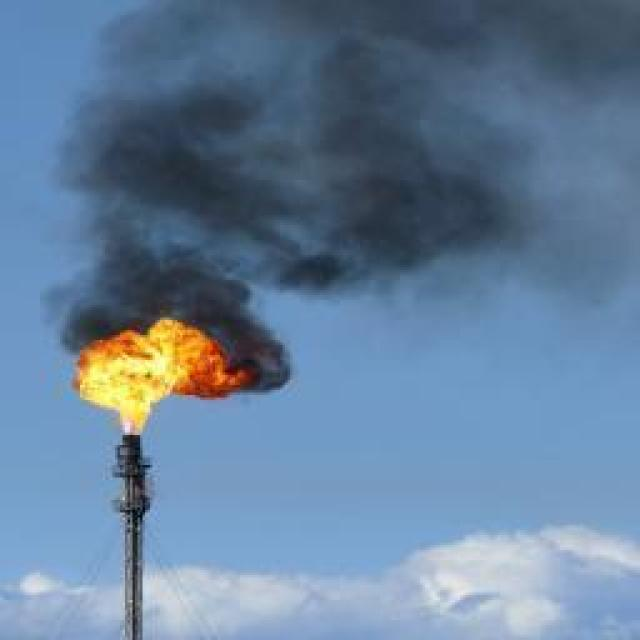fire: (71, 315, 252, 431)
smoke: (40, 0, 640, 400), (145, 470, 163, 499)
